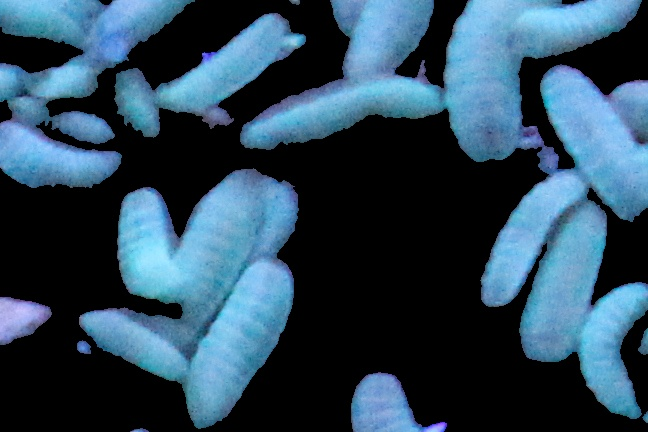larvae: (161, 170, 276, 335), (185, 259, 295, 426), (541, 66, 648, 221), (240, 75, 447, 154), (517, 203, 612, 363), (484, 163, 584, 308), (159, 16, 291, 113), (445, 1, 524, 159), (577, 279, 647, 419), (341, 1, 452, 80), (119, 188, 194, 298), (1, 123, 123, 190), (78, 305, 185, 381), (512, 1, 648, 57), (343, 366, 425, 432), (93, 1, 196, 48), (110, 70, 166, 138), (1, 1, 88, 42)
